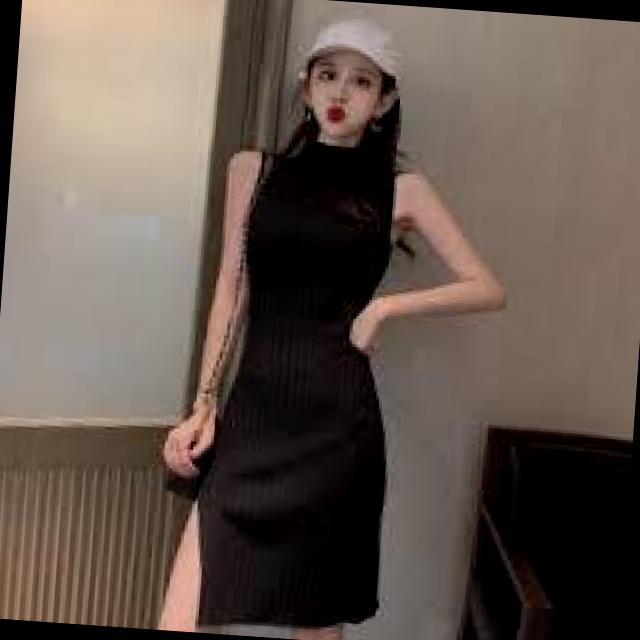dress: (179, 134, 410, 640)
